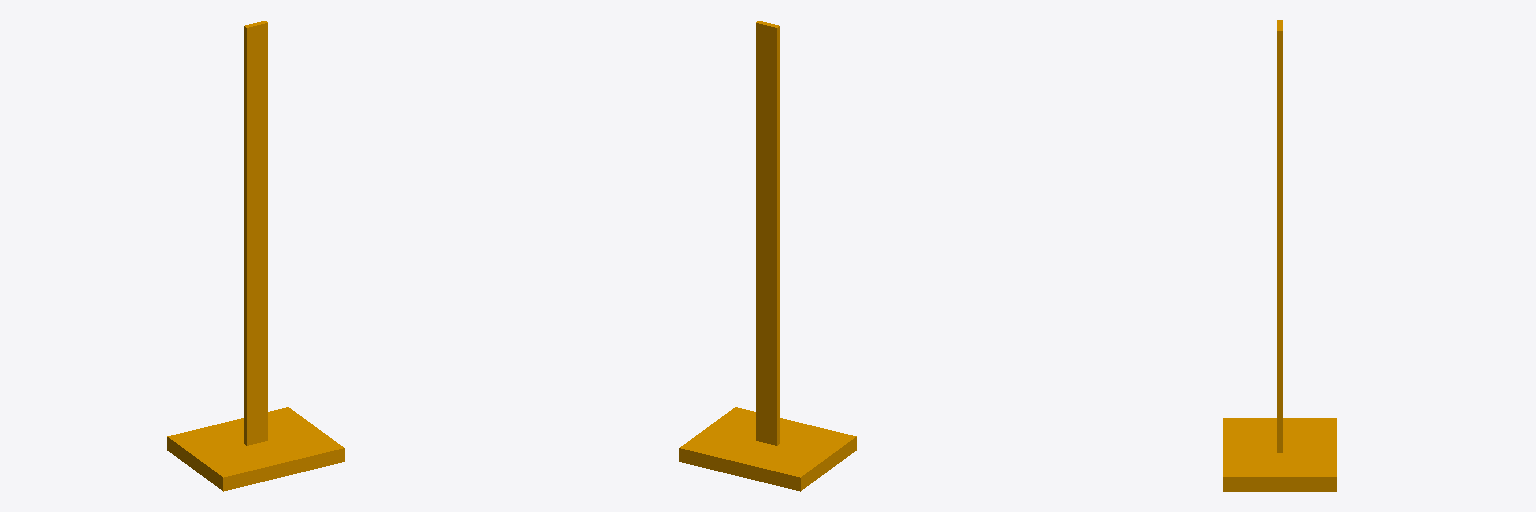
The robot description file, URDF, robot "arms_base":
<?xml version="1.0" ?>
<robot name="arms_base">
  <link name="baseLink">
    <contact>
      <lateral_friction value="1.0"/>
      <rolling_friction value="0.0"/>
      <contact_cfm value="0.0"/>
      <contact_erp value="1.0"/>
    </contact>
    <inertial>
      <origin rpy="0 0 0" xyz="0 0 0"/>
       <mass value="1.0"/>
       <inertia ixx="1" ixy="0" ixz="0" iyy="1" iyz="0" izz="1"/>
    </inertial>
    <visual>
      <origin rpy="0 0 0" xyz="0 0 0"/>
      <geometry>
				<mesh filename="arms_base.obj" scale="1 1 1"/>
      </geometry>
    </visual>
    <collision>
      <origin rpy="0 0 0" xyz="0 0 0"/>
      <geometry>
	 	<mesh filename="arms_base.obj" scale="1 1 1"/>
      </geometry>
    </collision>
  </link>
</robot>

--- What the picture shows (computed from the rendered views, not written in the file) ---
The picture shows the robot from 3 angles, left to right: view 1: azimuth 30°, elevation 25°; view 2: azimuth 150°, elevation 25°; view 3: azimuth 270°, elevation 25°; orthographic projection.
Model arms_base with 1 links and 0 joints (none), rooted at baseLink, posed all joints at 0.
Visible links, largest first — view 1: baseLink; view 2: baseLink; view 3: baseLink.
Link boxes in pixels (x1=…): baseLink: x1=167, y1=21, x2=344, y2=491; baseLink: x1=679, y1=21, x2=856, y2=491; baseLink: x1=1223, y1=20, x2=1336, y2=491.
Size in the robot's own frame: 0.455 by 0.365 by 1.55 metres.
Meshes: 1 distinct files referenced, 1 mesh visuals loaded (1 OBJ).